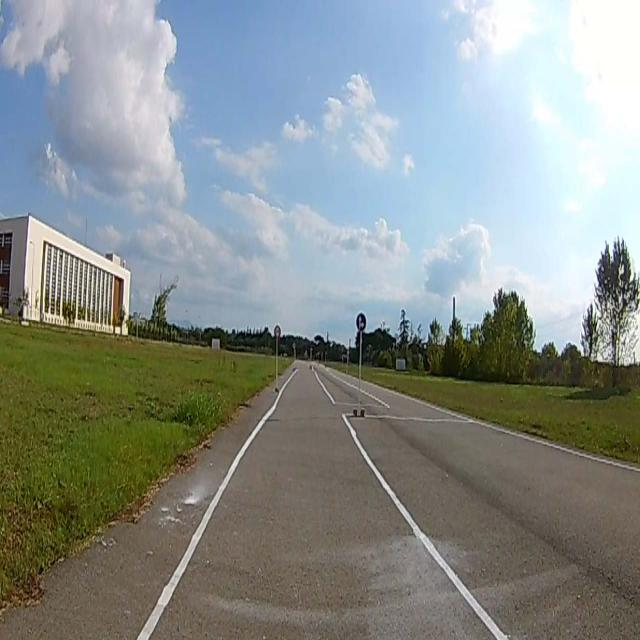ilerisag: (356, 314, 366, 330)
